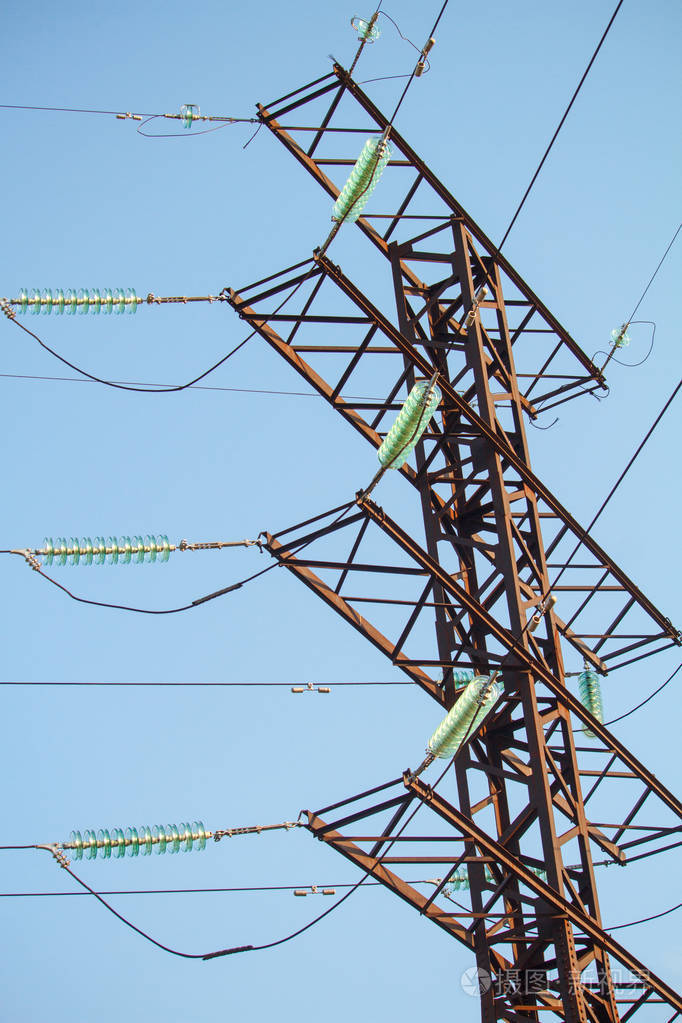insulator: (68, 822, 208, 864), (433, 676, 500, 760), (376, 381, 439, 469), (39, 534, 171, 568), (329, 143, 382, 224), (15, 284, 140, 318), (580, 672, 611, 738)
